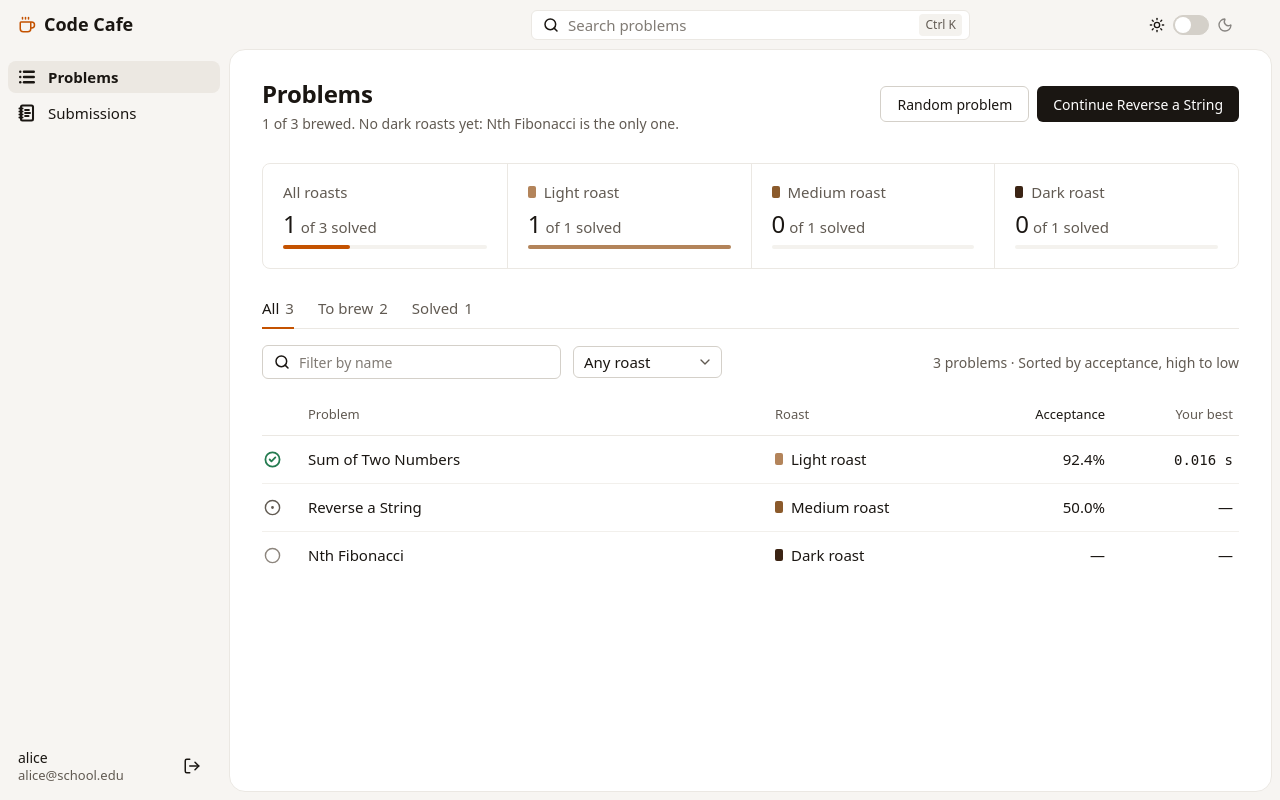
Test: problems screen › filters by tab and name
Expected: the link "Nth Fibonacci" is shown, 308,545 -> 404,565
Click the tab "Solved 1" at point(442, 308), box 412,288 -> 473,328
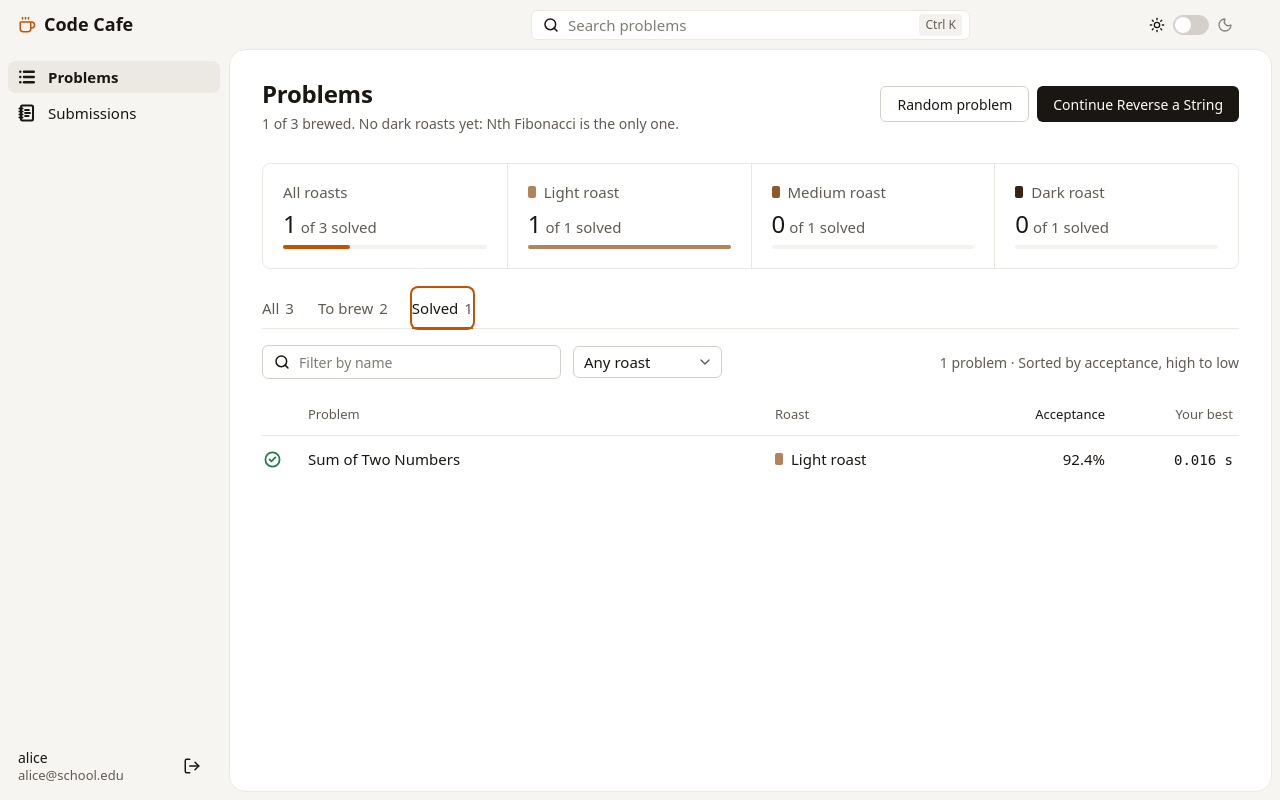
Click the tab "To brew 2" at point(353, 308), box 318,288 -> 388,328
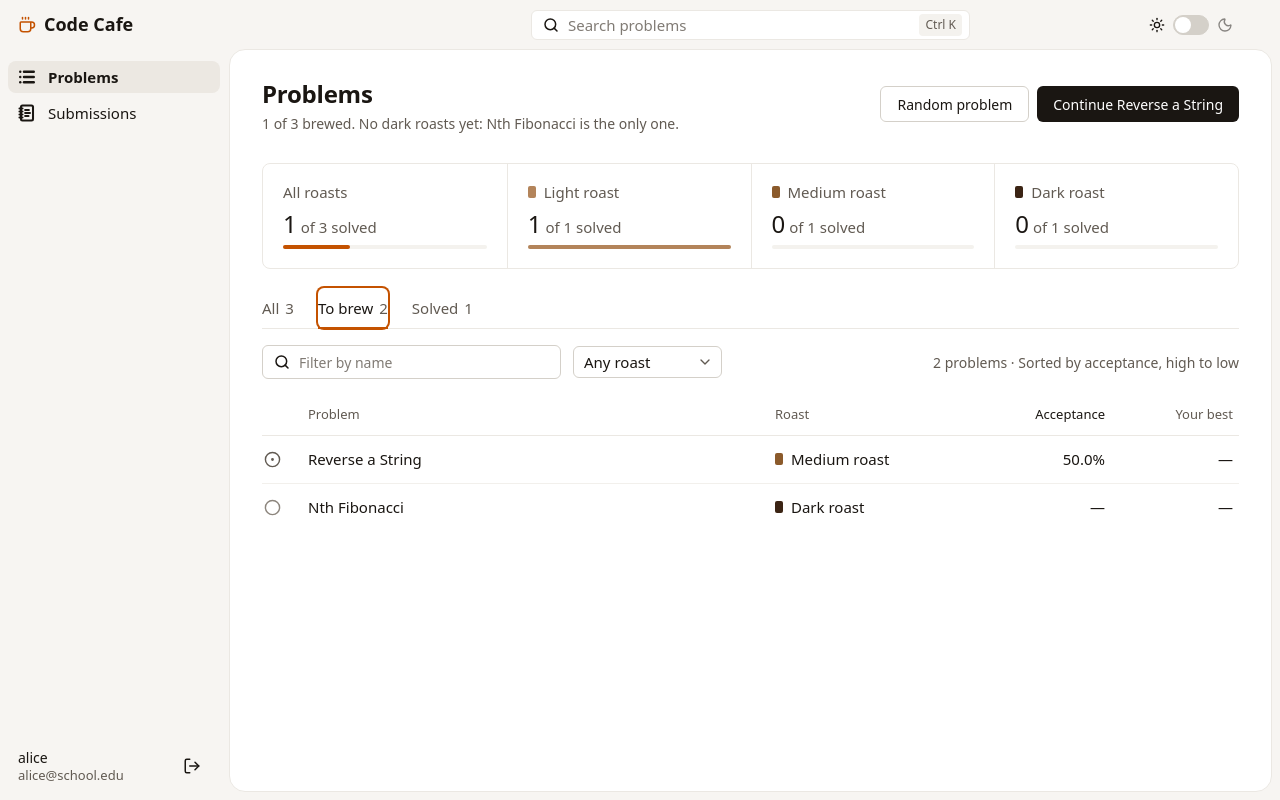
Click the tab "All 3" at point(278, 308), box 262,288 -> 294,328
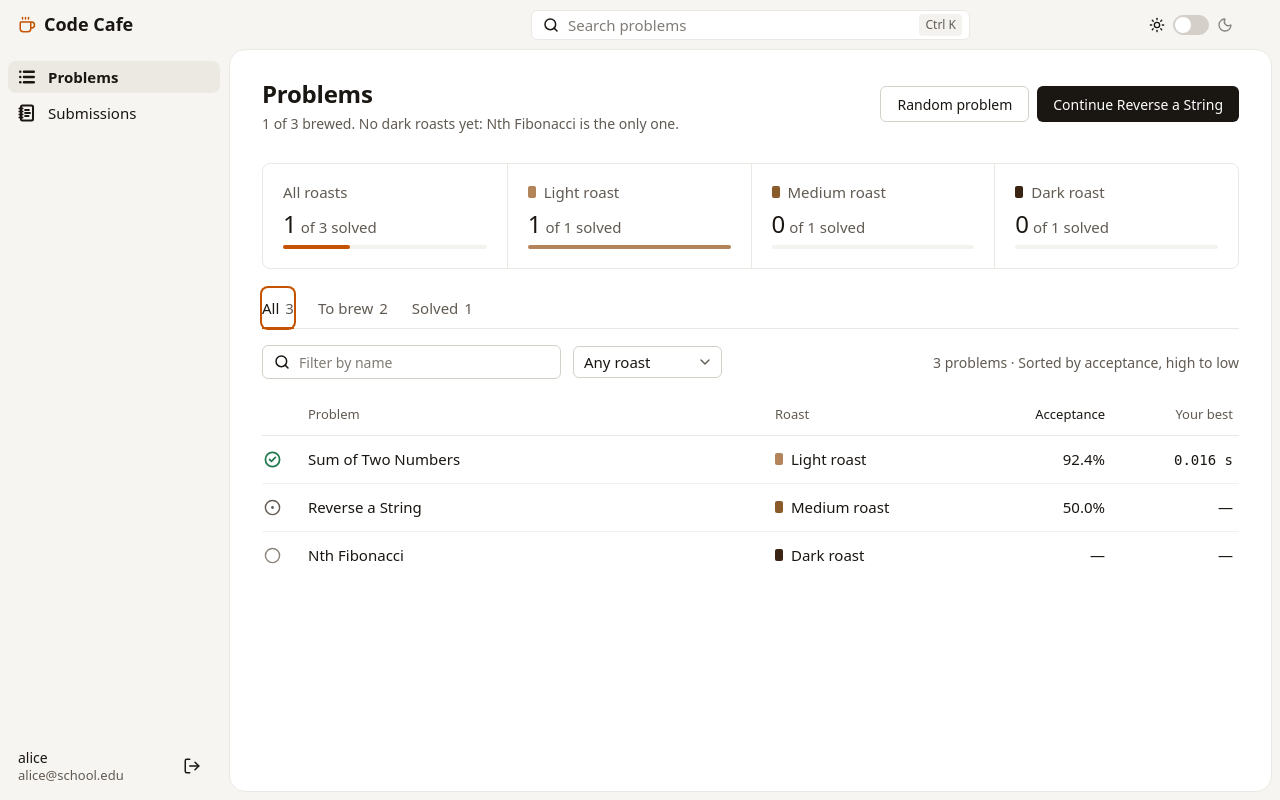
Type "fib" into the search field labelled "Filter by name" at point(412, 362), box 262,345 -> 561,379
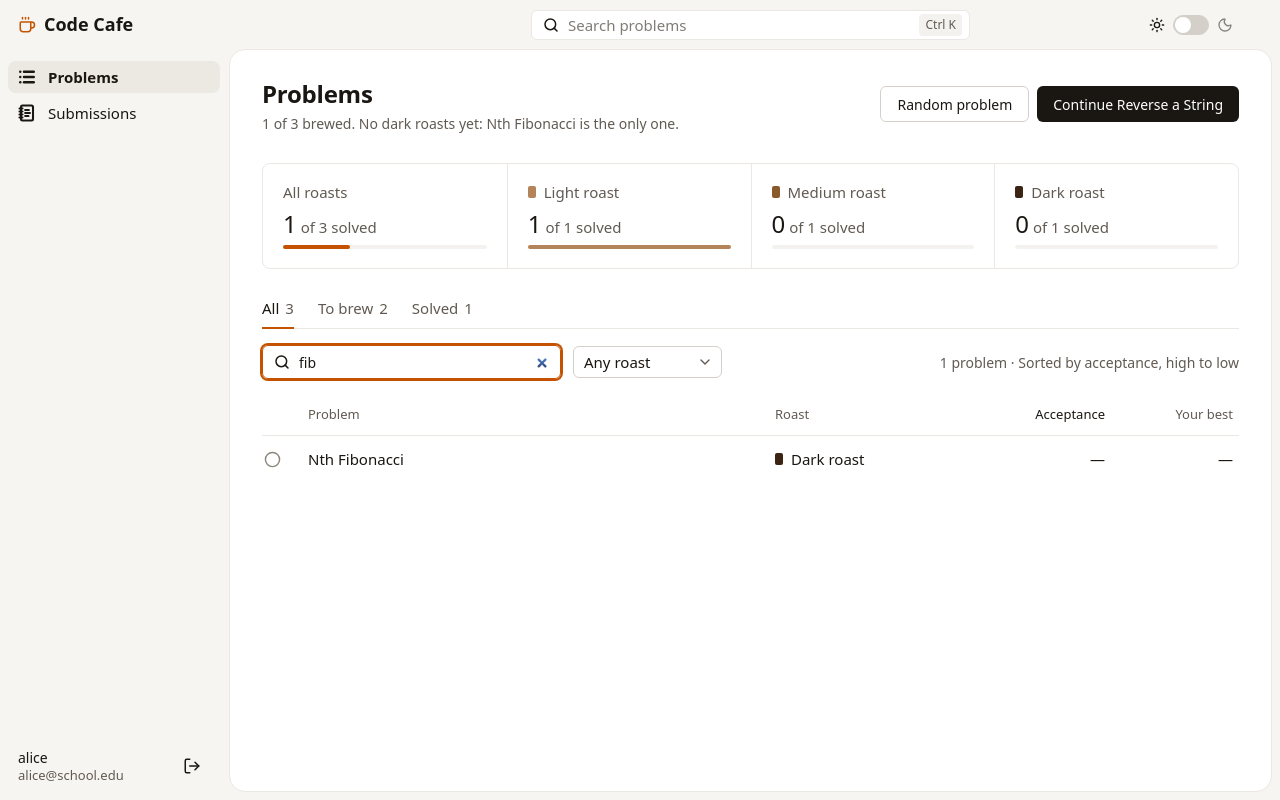
Replace the text in the search field named "Filter by name" with "zzz" at point(412, 362), box 262,345 -> 561,379
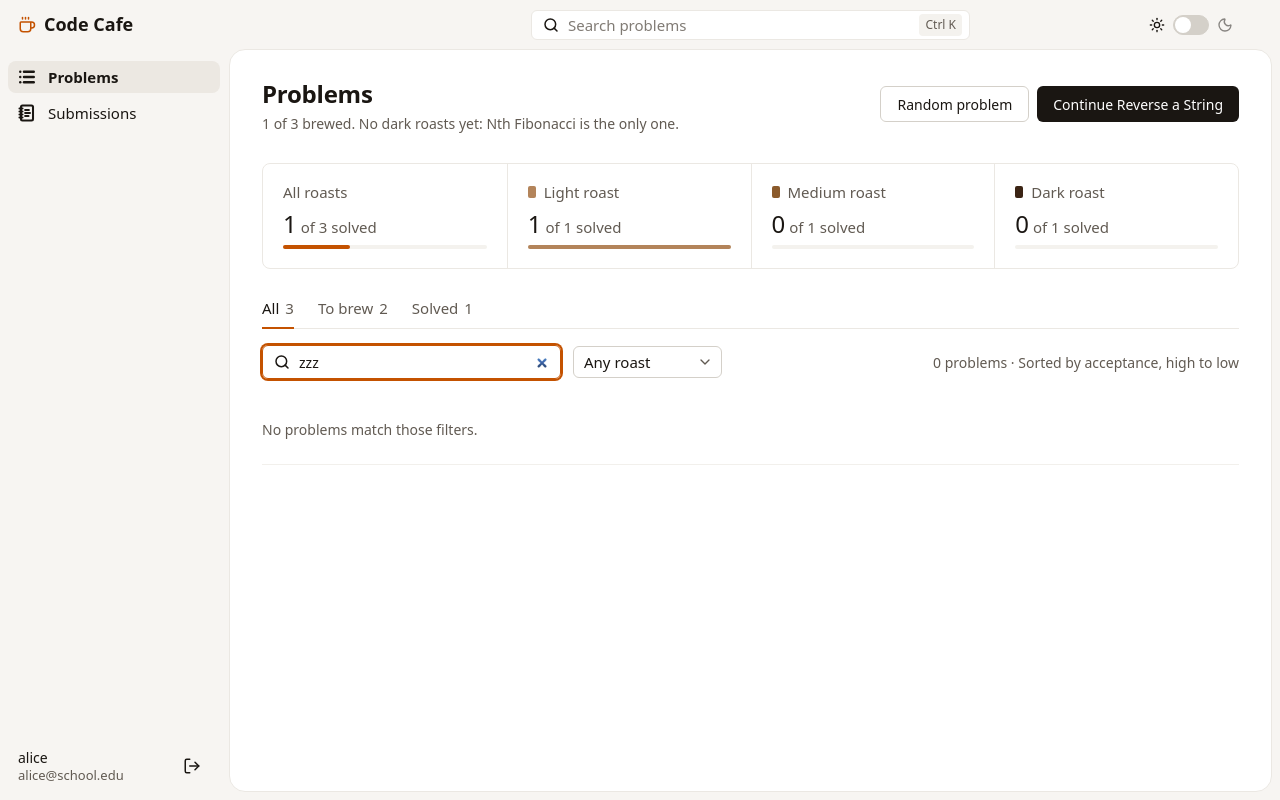
Now the text "No problems match those filters." is shown, box 262,395 -> 1239,465
